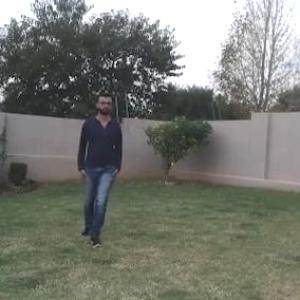follow: (77, 93, 119, 238)
